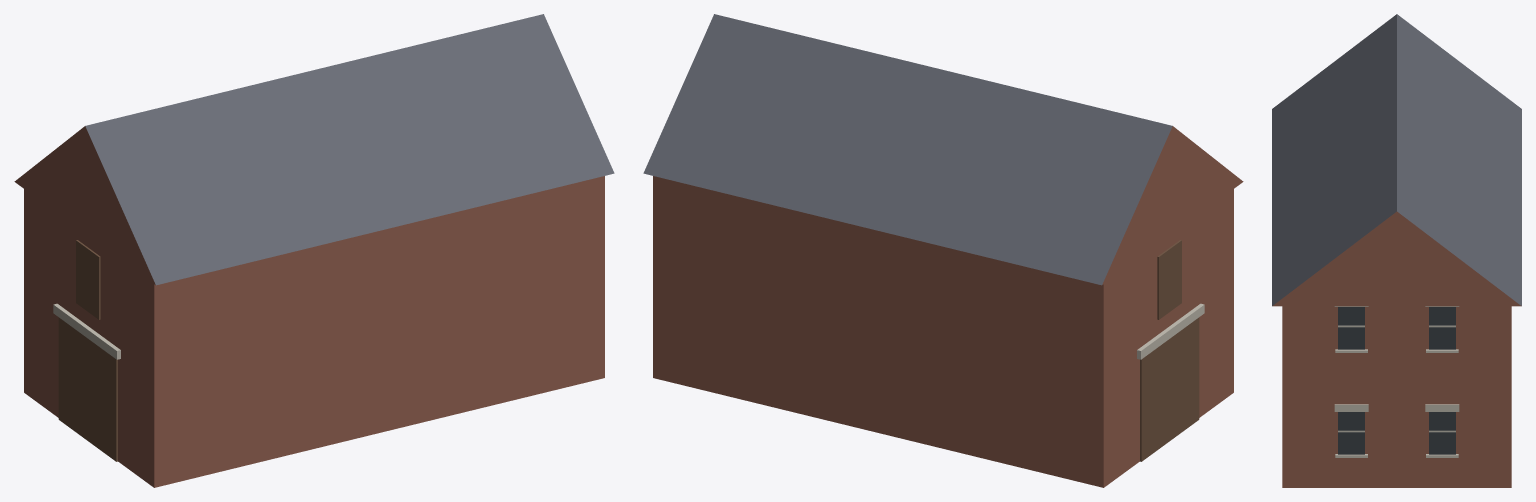
Rendered from otis_house_2033_prairie_coach_house__draft_1904.glb.
The picture shows the model from 3 angles, left to right: view 1: azimuth 30°, elevation 25°; view 2: azimuth 150°, elevation 25°; view 3: azimuth 270°, elevation 25°; orthographic projection. The views are drawn at different scales.
Visible parts, largest first — view 1: otis_house_2033_prairie_coach_house__draft_1904; view 2: otis_house_2033_prairie_coach_house__draft_1904; view 3: otis_house_2033_prairie_coach_house__draft_1904.
Boxes of the visible parts, left/top/right/bottom form: otis_house_2033_prairie_coach_house__draft_1904: left=14, top=14, right=614, bottom=487; otis_house_2033_prairie_coach_house__draft_1904: left=643, top=14, right=1243, bottom=487; otis_house_2033_prairie_coach_house__draft_1904: left=1272, top=14, right=1521, bottom=487.
Bounding box in the file's own units: 13.74 × 9.03 × 7.35.
